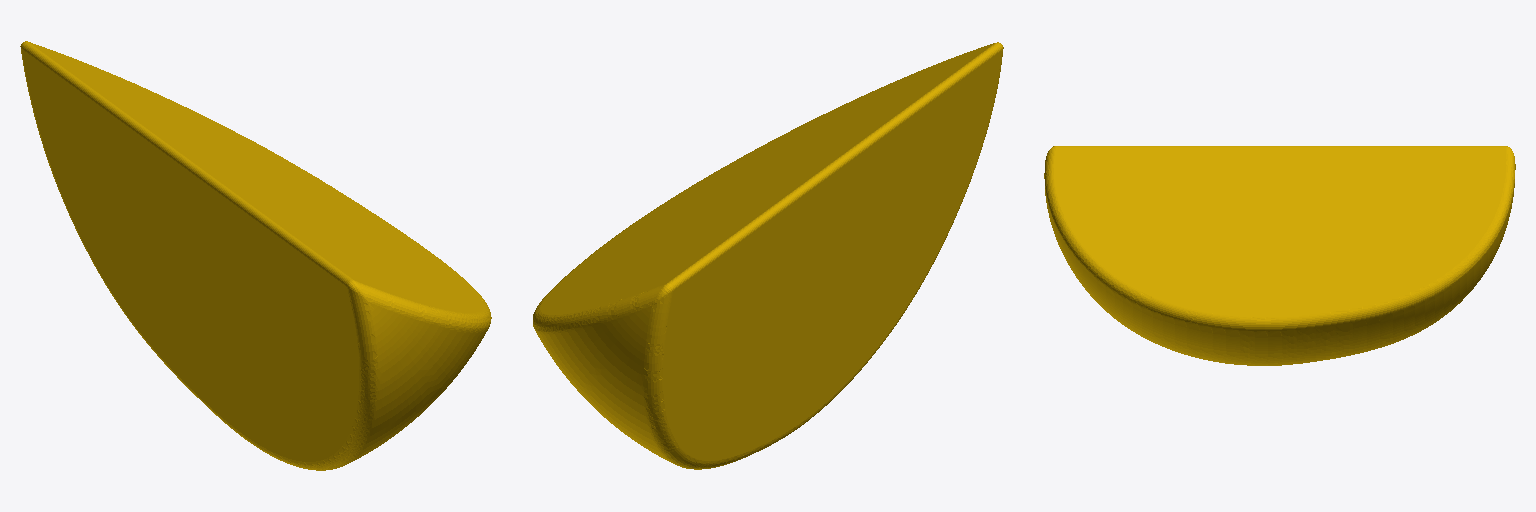
URDF robot description (orange.urdf):
<?xml version="0.0" ?>
<robot name="orange.urdf">
  <link name="baseLink">
    <contact>
      <lateral_friction value="1.0"/>
      <inertia_scaling value="3.0"/>
    </contact>
    <inertial>
      <origin rpy="0 0 0" xyz="0 0 0"/>
       <mass value=".2"/>
       <inertia ixx="0.1" ixy="0" ixz="0" iyy="0.1" iyz="0" izz="0.1"/>
    </inertial>
    <visual>
      <origin rpy="0 0 0" xyz="0 0 0"/>
      <geometry>
        <mesh filename="orange.stl" scale="0.001 .001 .001"/>
      </geometry>
      <material name="orange96">
        <color rgba="0.85 0.69 0.043 1"/>
      </material>
    </visual>
    <collision>
      <origin rpy="0 0 0" xyz="0 0 0"/>
      <geometry>
	 	<box size="0.05 0.05 0.05"/>
      </geometry>
    </collision>
  </link>
</robot>

--- Render facts (derived) ---
Views: 3 orthographic renders of the robot side by side, from view 1: azimuth 30°, elevation 25°; view 2: azimuth 150°, elevation 25°; view 3: azimuth 270°, elevation 25°.
Robot: orange.urdf — 1 links, 0 joints (none); root link baseLink; default pose: every joint at zero.
Links seen in each view (by area): view 1: baseLink; view 2: baseLink; view 3: baseLink.
Link boxes in pixels (box(x1,y1,x2,y2)): baseLink: box(20, 41, 491, 470); baseLink: box(533, 42, 1003, 469); baseLink: box(1044, 146, 1515, 365).
Bounding box of the posed robot: 0.0999 × 0.2477 × 0.1138 m (x, y, z).
Meshes: 1 distinct files referenced, 1 mesh visuals loaded (1 binary STL).
